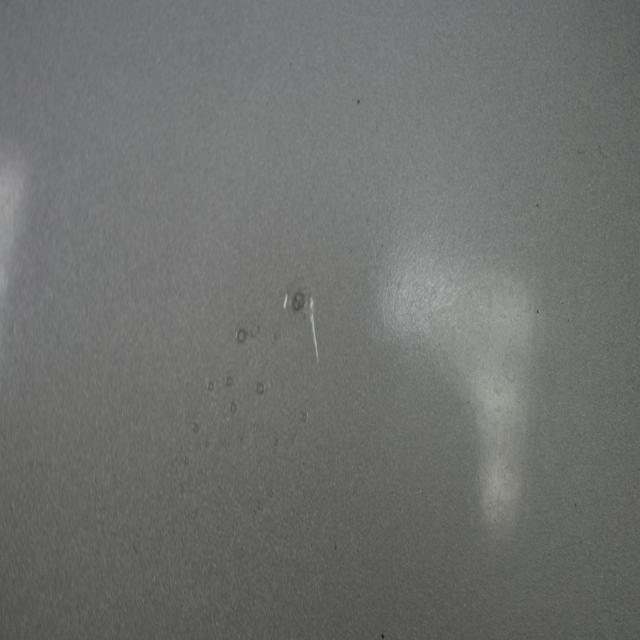dirt: (328, 537, 340, 554), (378, 628, 387, 640)
runs: (183, 277, 331, 527)
